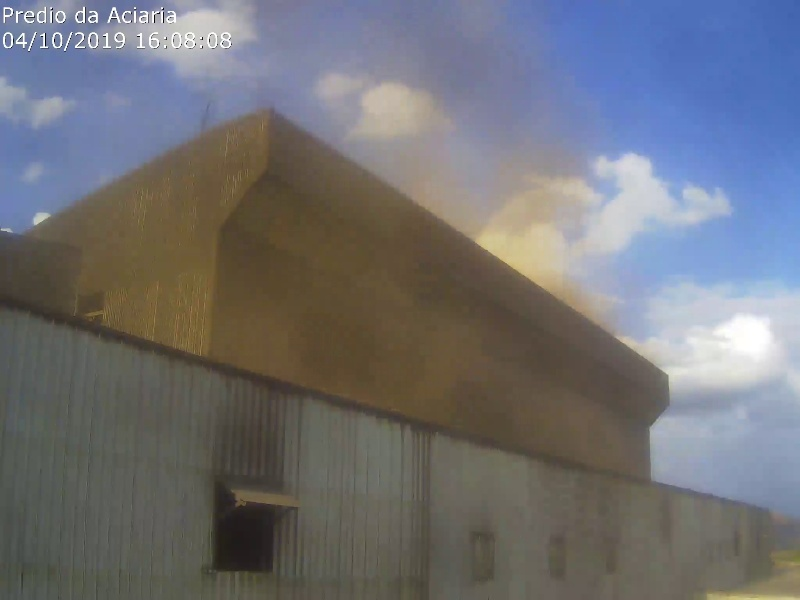pessimo: (173, 13, 628, 462)
